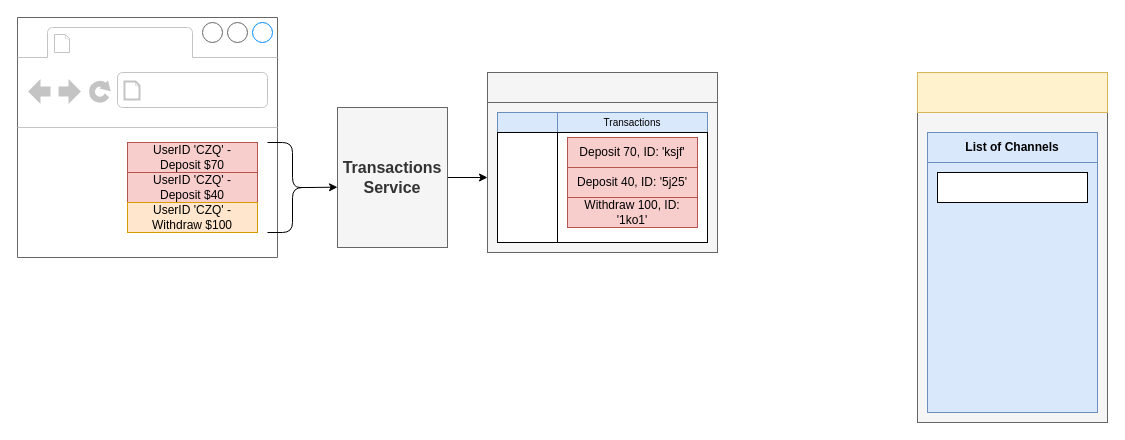
Some shapes in this 1125 by 440 pixel diagram are drawn without their labels. Each missing label, with the centre of its shape:
CZQ: the point at 527,187
NATS Streaming: the point at 1012,92
Page 1: the point at 132,42
Transactions Database: the point at 602,87
UserId: the point at 527,122
